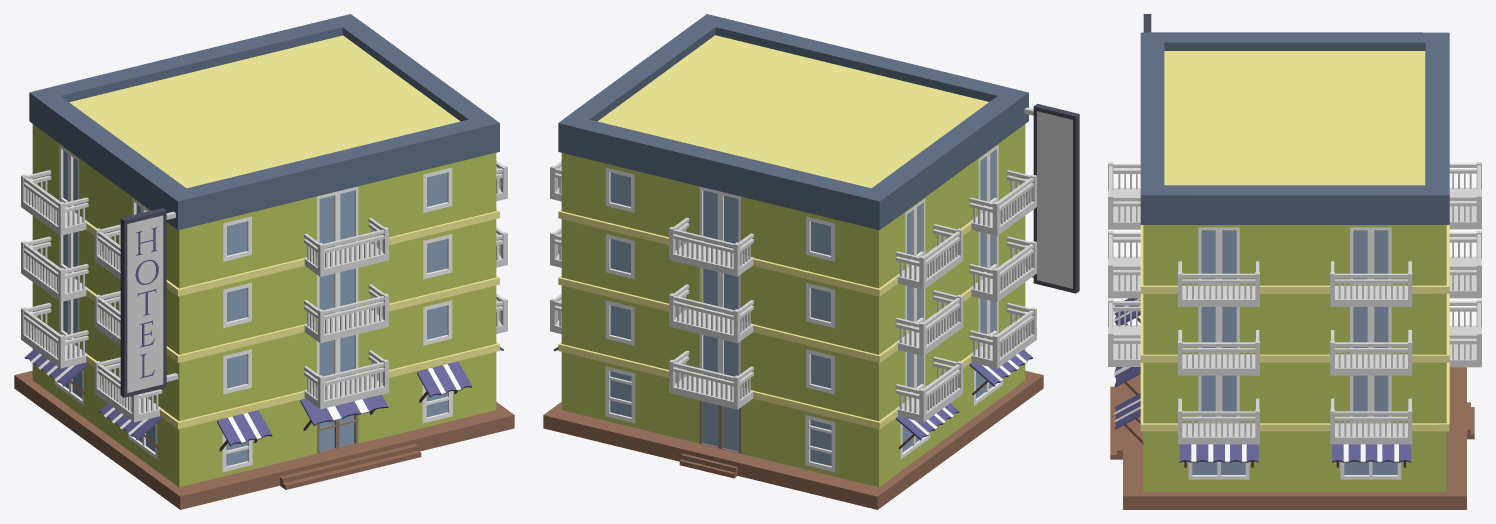
The model's file is Hotel_10.fbx.
3 renders of one model, left to right at view 1: azimuth 30°, elevation 25°; view 2: azimuth 150°, elevation 25°; view 3: azimuth 270°, elevation 25°, orthographic. The views are drawn at different scales.
Parts seen in each view (by area): view 1: Hotel_10; view 2: Hotel_10; view 3: Hotel_10.
Boxes of the visible parts, box(x1,y1,x2,y2) form: Hotel_10: box(14, 14, 514, 509); Hotel_10: box(543, 14, 1079, 509); Hotel_10: box(1108, 14, 1481, 509).
Size of the model in its own units: 1892 by 1359 by 1478.
